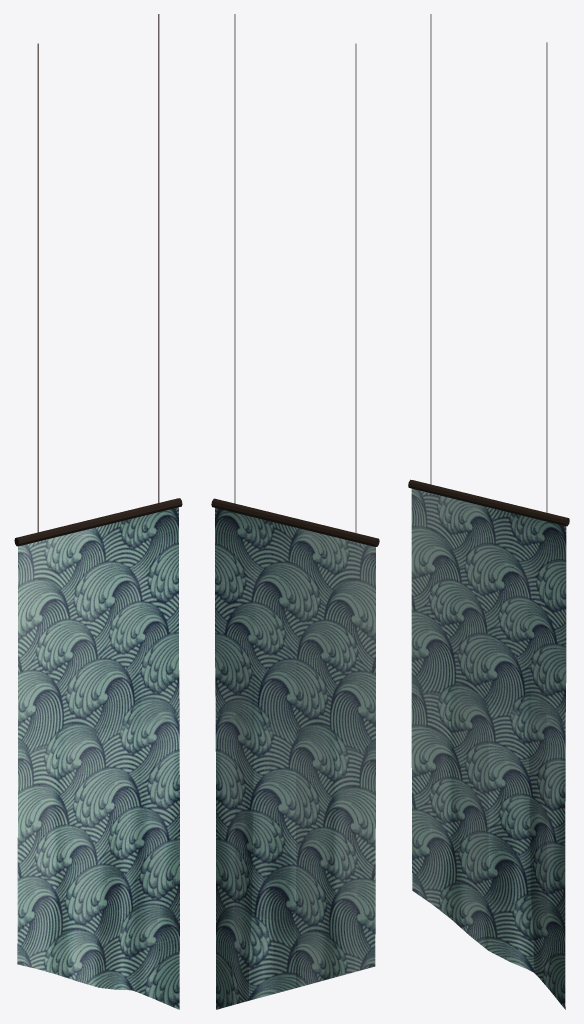
File: Drape.fbx
3 views of the same model, side by side, from view 1: azimuth 30°, elevation 25°; view 2: azimuth 150°, elevation 25°; view 3: azimuth 330°, elevation 25° (orthographic). The views are drawn at different scales.
Visible parts, largest first — view 1: pPlane3, pCylinder2; view 2: pPlane3, pCylinder2; view 3: pPlane3, pCylinder2.
Boxes of the visible parts, bbox=[...] form: pPlane3: bbox=[17, 507, 179, 1009]; pCylinder2: bbox=[14, 14, 182, 546]; pPlane3: bbox=[215, 508, 375, 1009]; pCylinder2: bbox=[211, 14, 379, 546]; pPlane3: bbox=[411, 488, 566, 1009]; pCylinder2: bbox=[408, 14, 569, 526].
Size of the model in its own units: 40.63 by 238 by 3.66.
2 materials, 1 textured.
